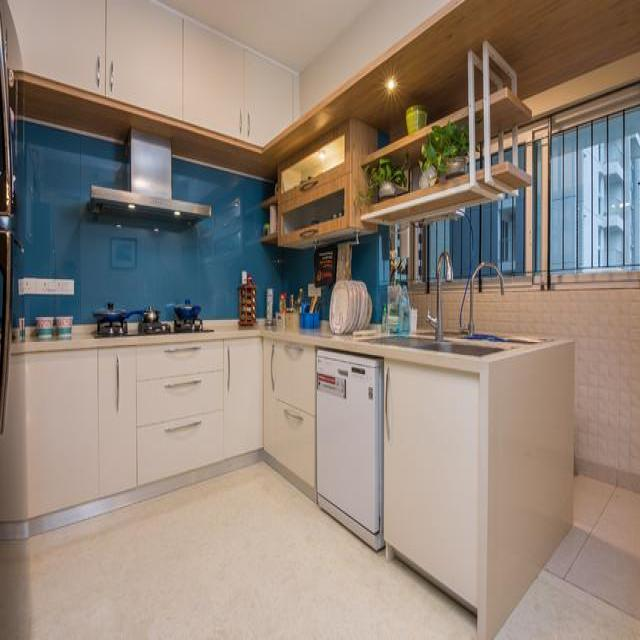dishwasher: (312, 345, 384, 561)
